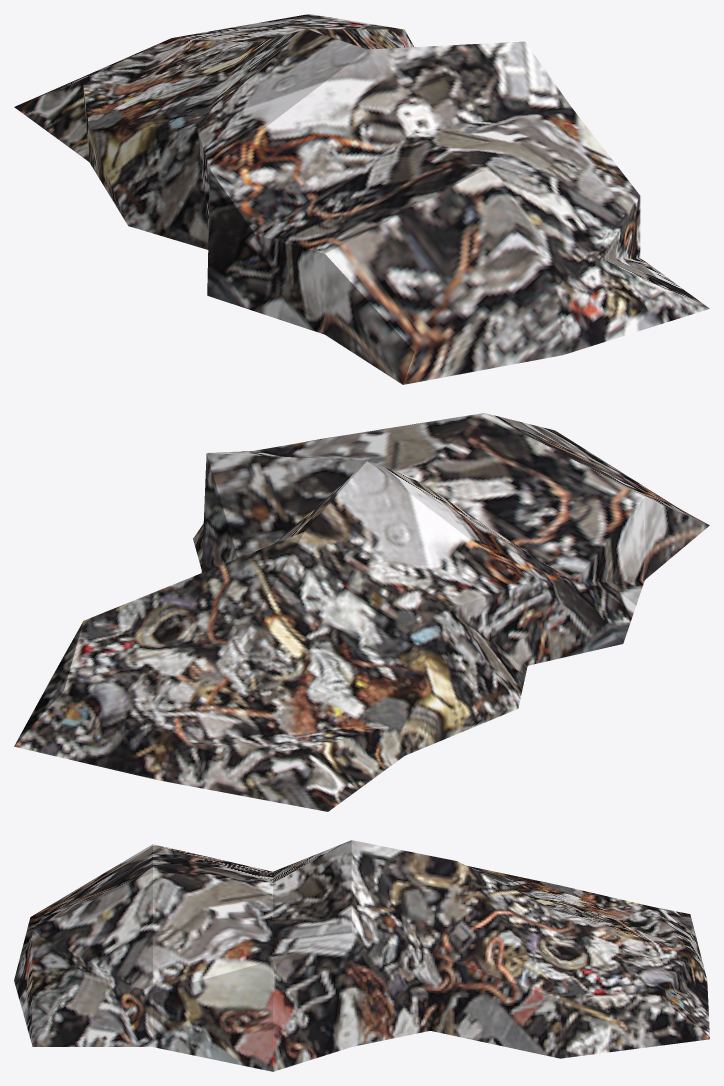
Rendered from Garbage1.fbx.
The picture shows the model from 3 angles, top to bottom: view 1: azimuth 30°, elevation 25°; view 2: azimuth 150°, elevation 25°; view 3: azimuth 270°, elevation 25°; orthographic projection. The views are drawn at different scales.
Visible parts, largest first — view 1: Cube; view 2: Cube; view 3: Cube.
Part boxes in pixels (x1=…): Cube: x1=14, y1=14, x2=709, y2=384; Cube: x1=14, y1=413, x2=709, y2=811; Cube: x1=14, y1=840, x2=709, y2=1071.
Size of the model in its own units: 268 by 98.56 by 443.
1 material, 1 textured.
